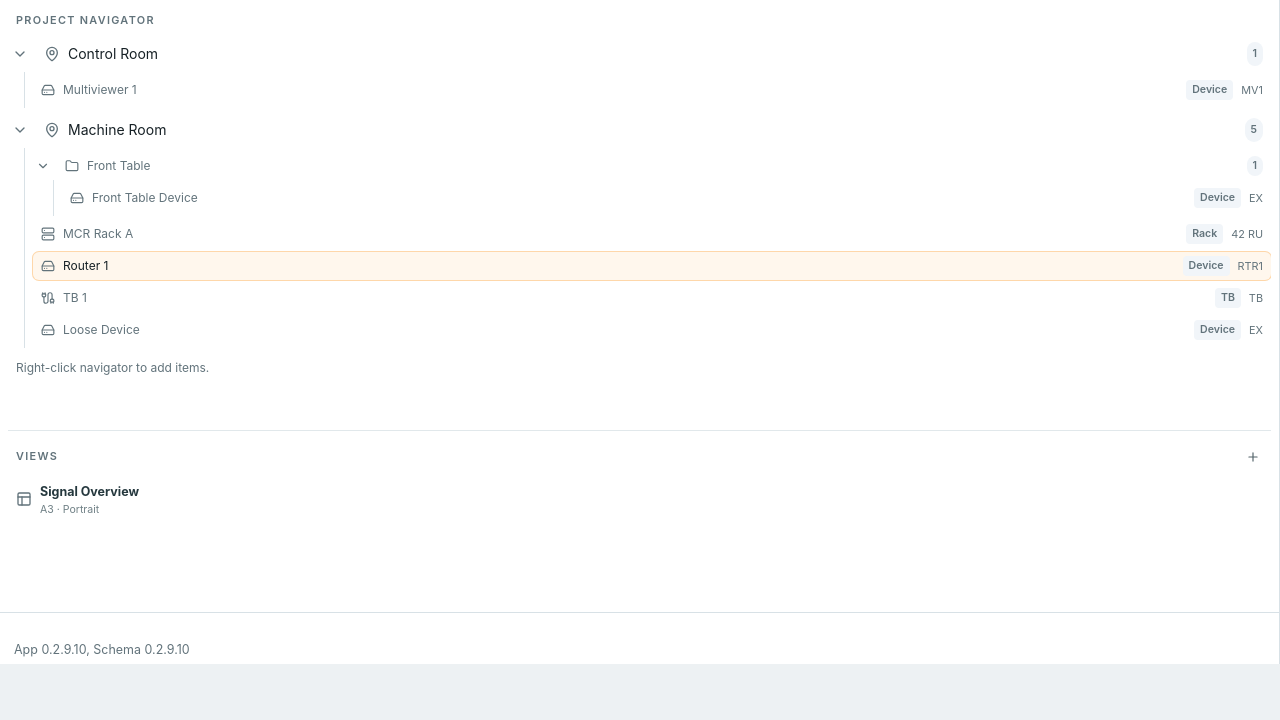
LeftTree › adds folders from the location context menu with an app modal
The width and height of the screenshot is (1280, 720).
Right-click the button "Machine Room 5": (117, 130) x1=36 y1=112 x2=1271 y2=148
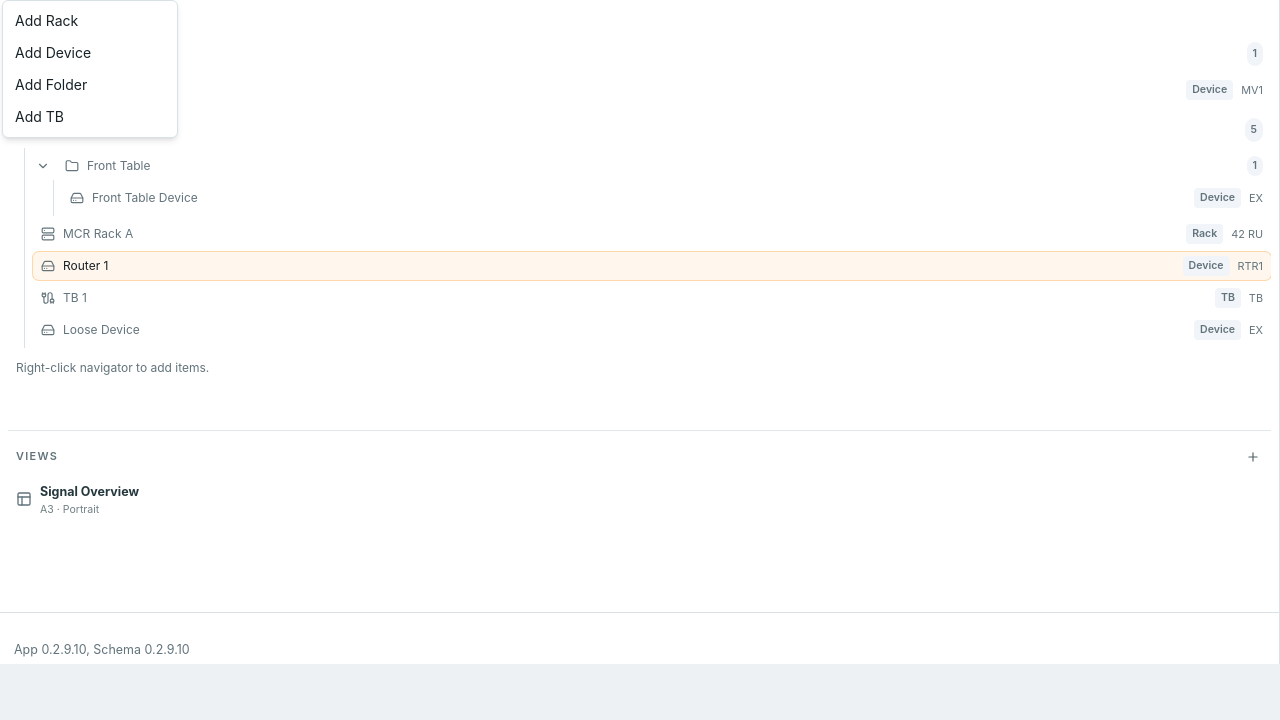
Click the menu item "Add Folder": (51, 84) x1=15 y1=76 x2=87 y2=93
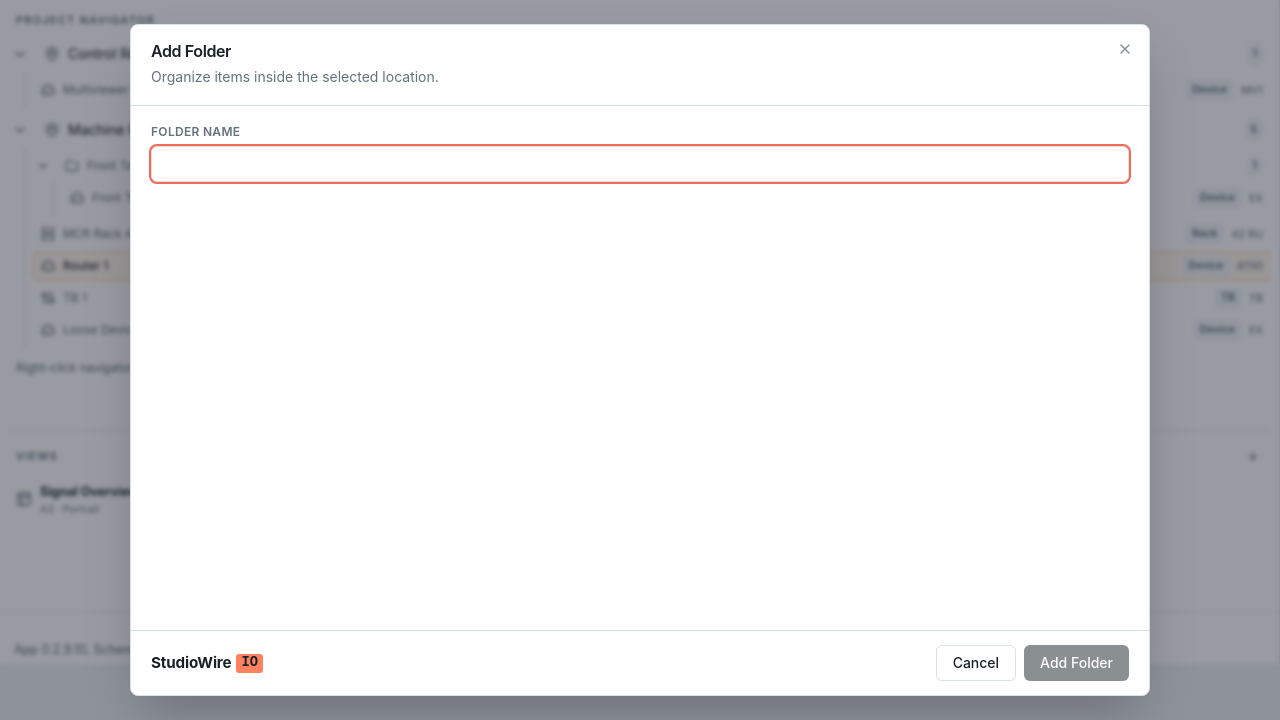
expect the heading "Add Folder" is shown: met, box x1=151 y1=41 x2=231 y2=61
In the field labelled "Folder name": (640, 164) x1=151 y1=146 x2=1129 y2=182, type "  Back Table  "
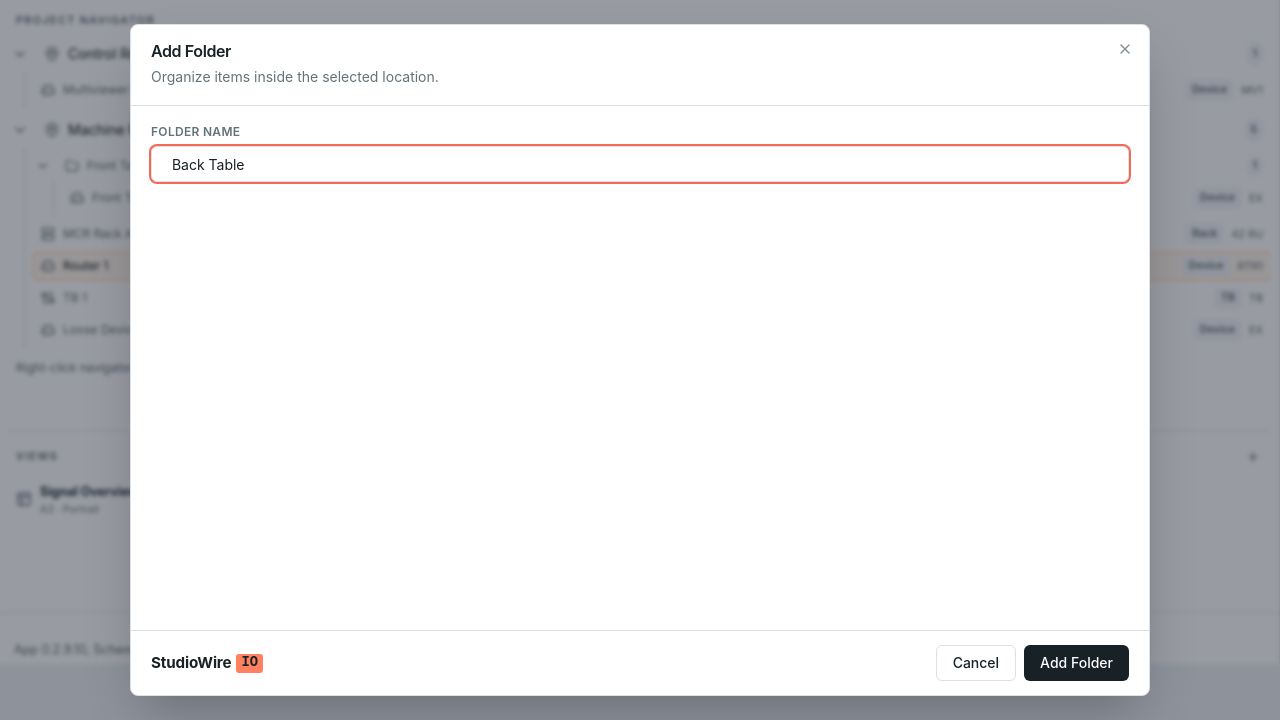
Click the button "Add Folder": (1077, 663) x1=1024 y1=645 x2=1129 y2=681
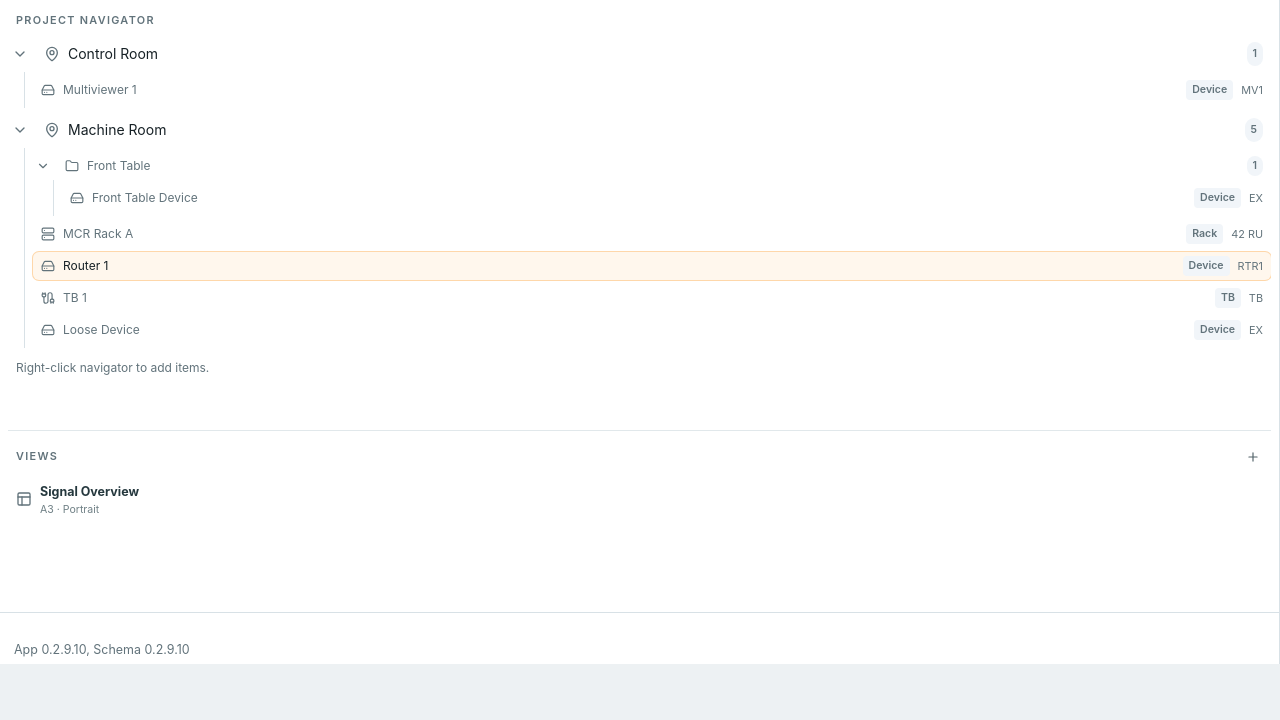
expect the heading "Add Folder" is gone: met
